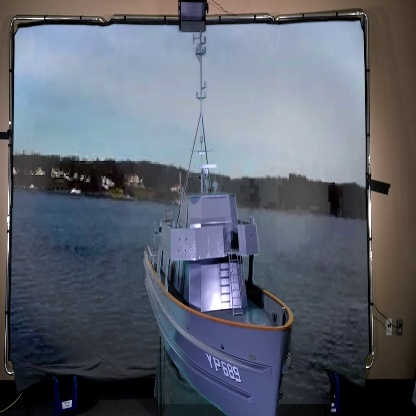YP689: (143, 33, 294, 416)
